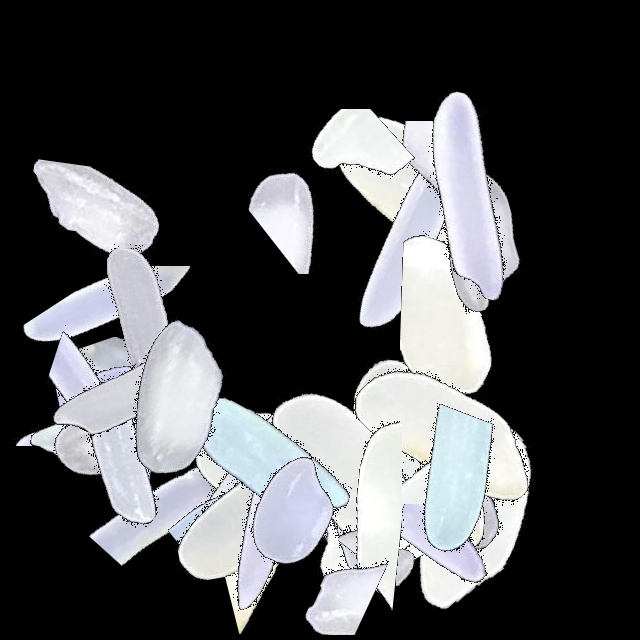Broken: (43, 281, 212, 531), (362, 369, 528, 619), (89, 374, 254, 624), (5, 124, 170, 374), (264, 476, 514, 640), (400, 189, 562, 439), (11, 266, 261, 415), (0, 337, 250, 479), (206, 138, 456, 274), (0, 324, 250, 459), (166, 379, 299, 629), (200, 502, 450, 635), (0, 318, 250, 446), (274, 390, 402, 640), (297, 121, 547, 246), (161, 517, 411, 637), (190, 515, 440, 635), (282, 394, 532, 504), (221, 109, 471, 216), (338, 390, 439, 640), (27, 414, 277, 504), (0, 322, 250, 412), (185, 288, 435, 371)
Full: (259, 335, 509, 585), (344, 390, 594, 640), (220, 390, 470, 640), (285, 381, 535, 631), (299, 68, 549, 318), (311, 367, 561, 617), (24, 261, 274, 511), (169, 326, 419, 576), (125, 356, 375, 606), (296, 327, 546, 577), (14, 310, 264, 560), (260, 383, 510, 633), (283, 121, 533, 371), (134, 390, 384, 640), (140, 390, 390, 640), (0, 310, 250, 560), (0, 302, 250, 552), (214, 351, 464, 601), (145, 336, 395, 586), (356, 112, 606, 362), (12, 185, 262, 435), (324, 311, 574, 561), (0, 334, 250, 584), (0, 265, 250, 515), (49, 277, 299, 527), (343, 70, 593, 320), (163, 390, 413, 640)
